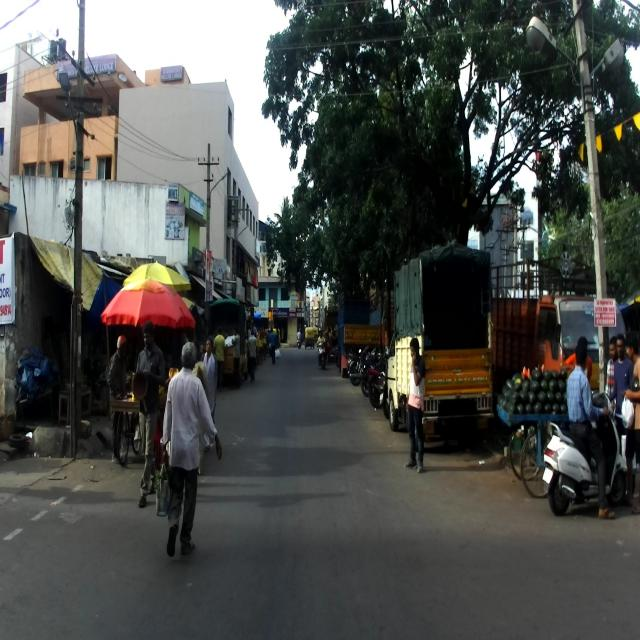scooter: (540, 391, 630, 516)
truck: (492, 254, 633, 452), (385, 243, 495, 448)
